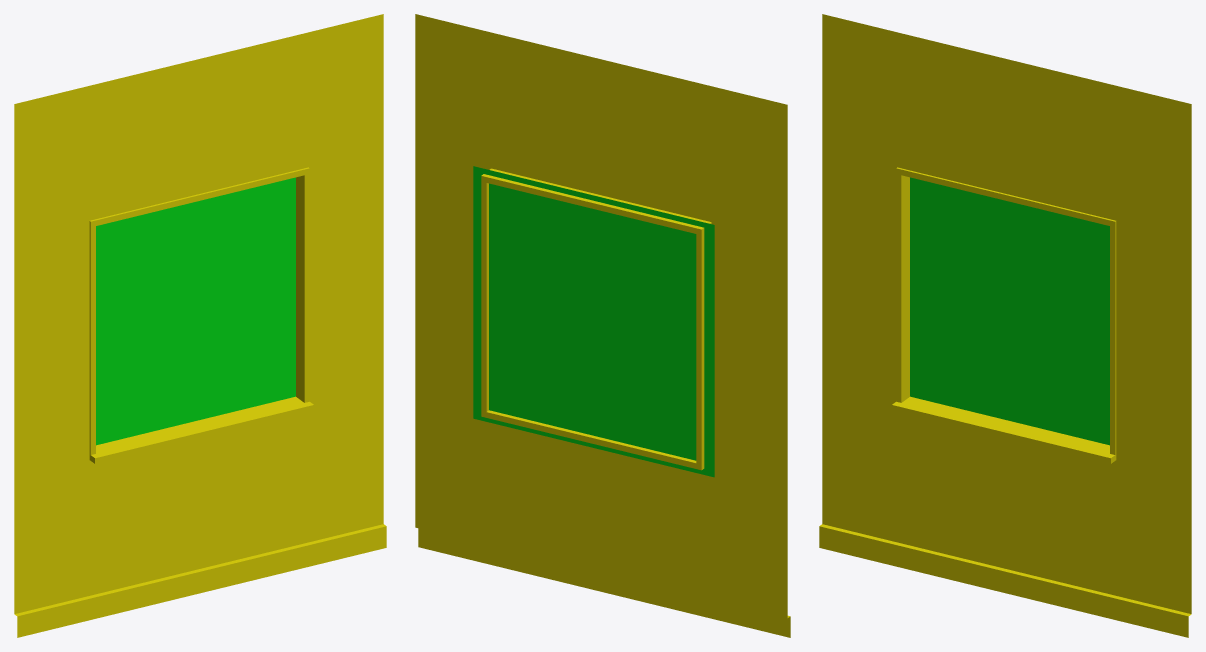
The model's file is WindowCallCenter.fbx.
The picture shows the model from 3 angles, left to right: view 1: azimuth 30°, elevation 25°; view 2: azimuth 150°, elevation 25°; view 3: azimuth 330°, elevation 25°; orthographic projection.
Parts seen in each view (by area): view 1: wall.001; view 2: wall.001; view 3: wall.001.
Boxes of the visible parts, <box> form: wall.001: <box>14,14,386,637</box>; wall.001: <box>415,14,790,637</box>; wall.001: <box>819,14,1191,637</box>.
Bounding box in the file's own units: 275 × 200 × 14.57.
